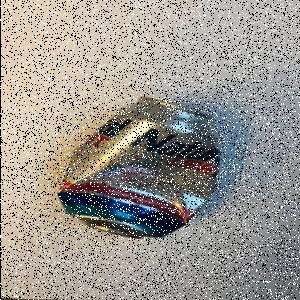Can: (58, 97, 224, 241)
